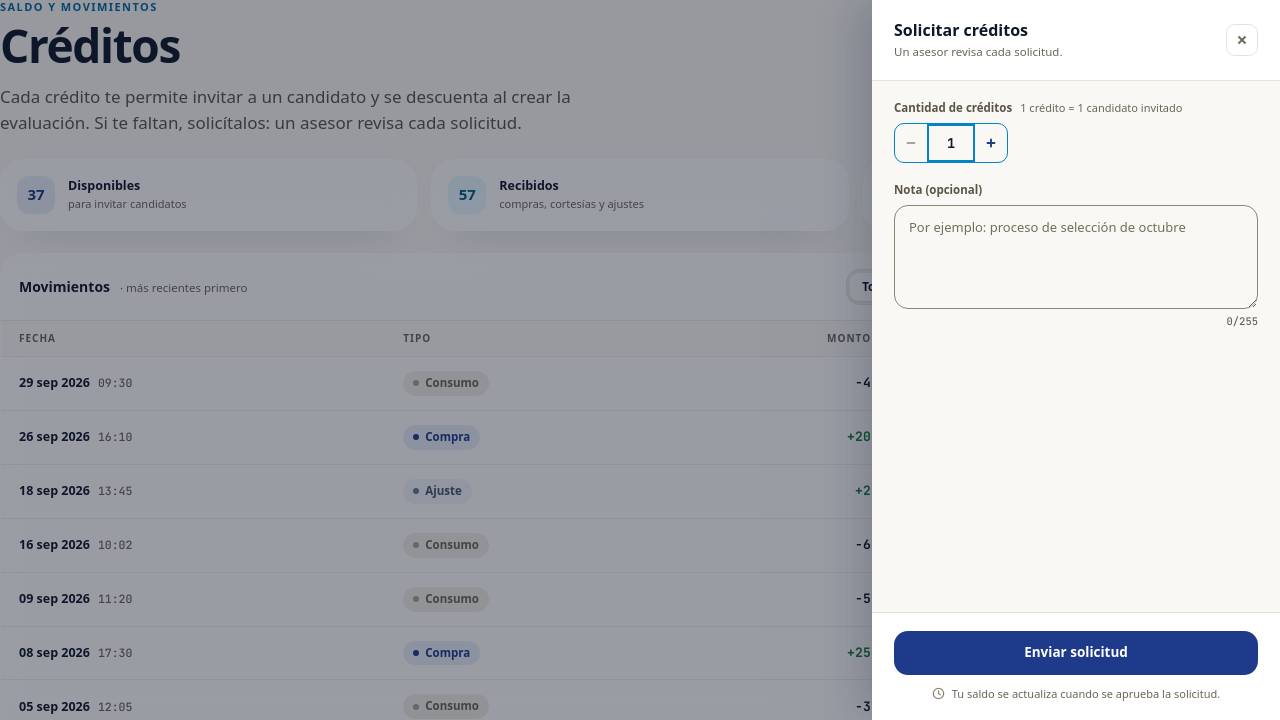
Test: CreditosPage · solicitud de créditos › ?solicitar=1 abre el drawer al llegar y el parámetro se quita al cerrar
Click the button named "Cerrar" at (1242, 40), box [1226,24,1258,56]
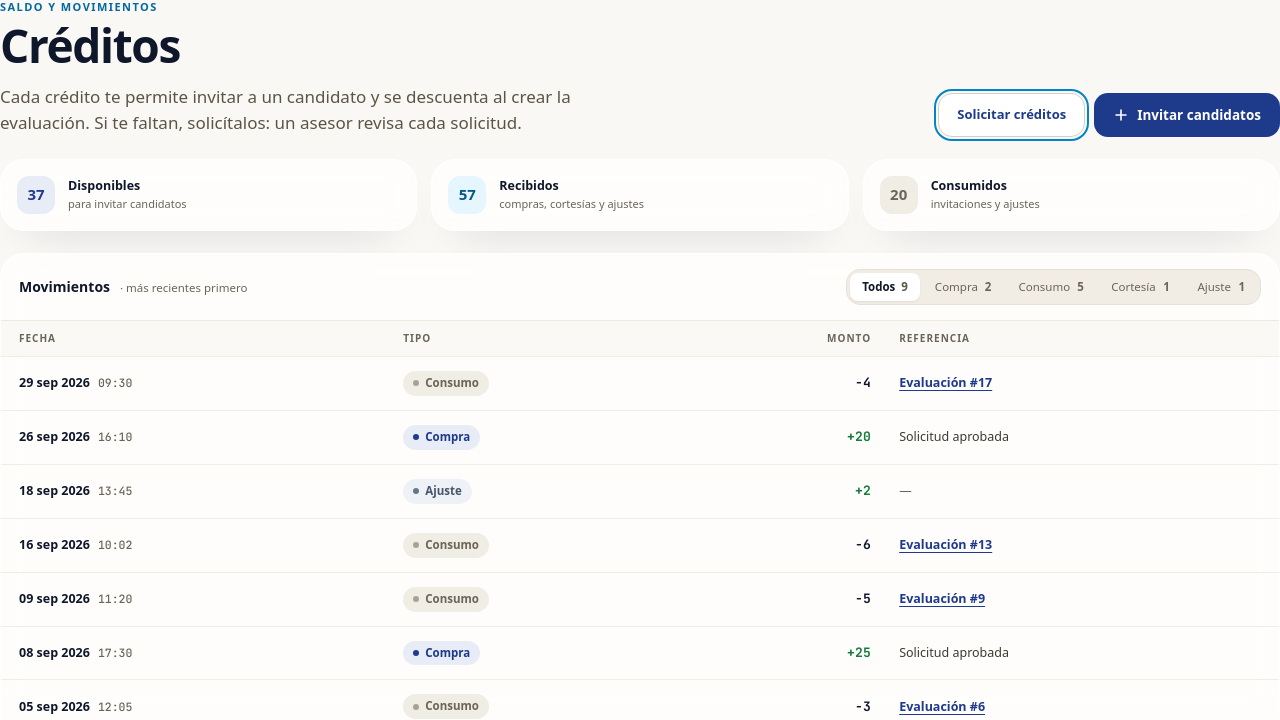
Check: the dialog is gone
